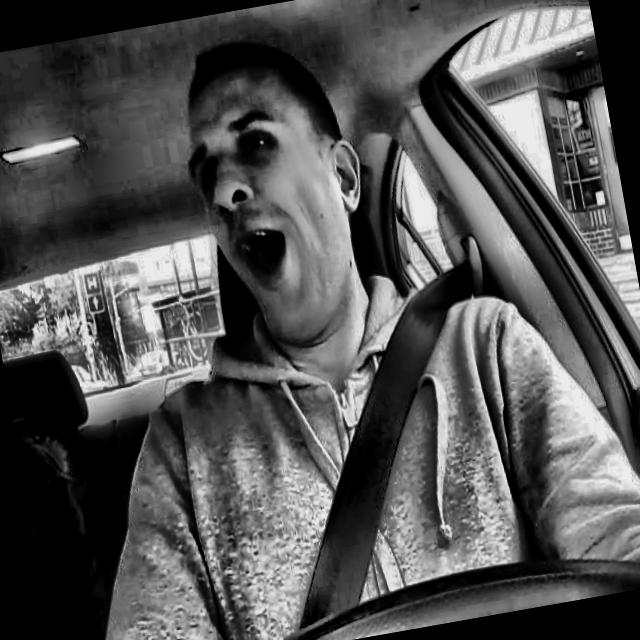open_mouth: (213, 217, 315, 310)
